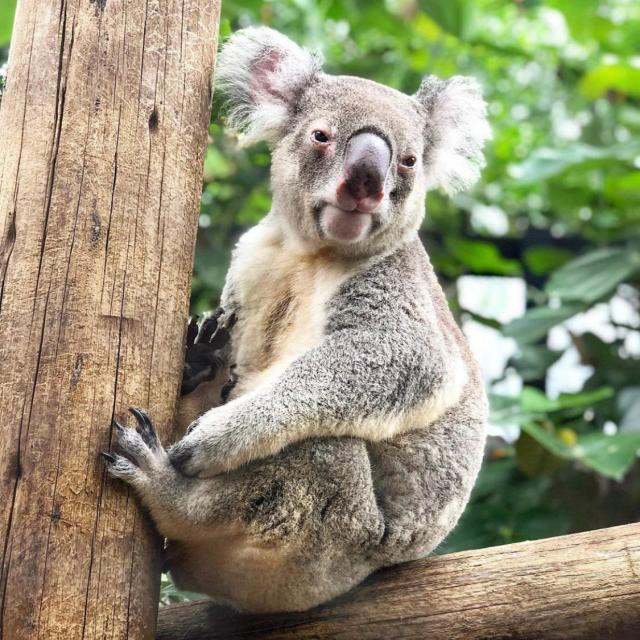Koala: (94, 20, 495, 618)
